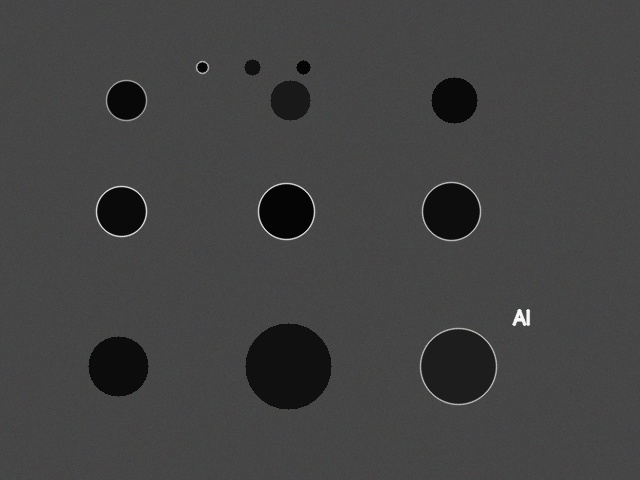hole: (245, 323, 331, 409), (420, 328, 496, 404), (88, 336, 148, 396), (422, 182, 480, 240), (258, 183, 314, 239), (96, 186, 146, 236), (431, 77, 477, 123), (106, 80, 146, 120), (270, 80, 310, 120), (244, 59, 260, 75), (296, 60, 310, 74), (196, 61, 208, 73)
